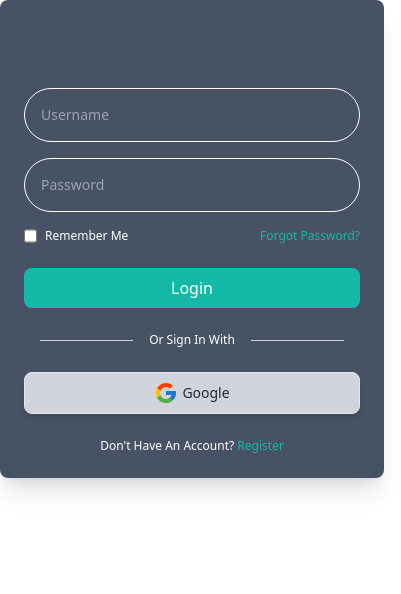
it: LoginForm › LoginForm Invalid Tests › should show 'Password must contain one uppercase letter, one number.' error when login fails due to incorrect password format
This screenshot has width=401, height=594.
Note: Simulate user typing invalid credentials
Type "invalid-email@gmail.com" into the field with placeholder "Username". click: {"x": 192, "y": 115}
box: [33, 97, 351, 133]
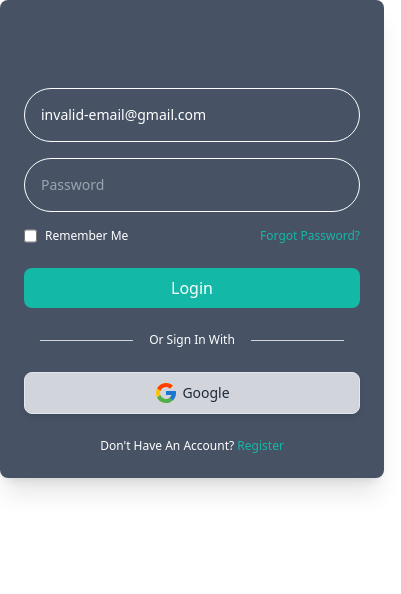
Type "wrongpassword" into the password field with placeholder "Password". click: {"x": 192, "y": 185}
box: [33, 167, 351, 203]
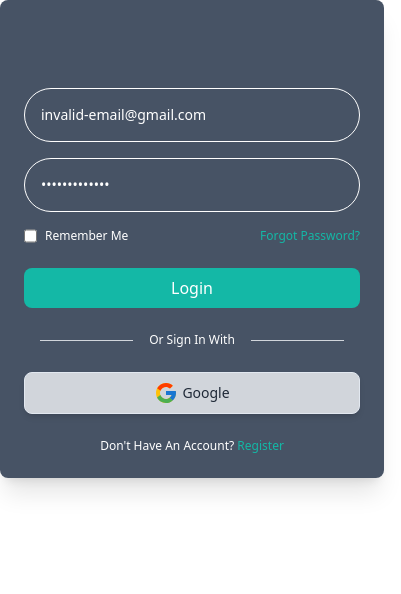
Note: Simulate form submission
Click the button "Login". click: {"x": 192, "y": 288}
box: [24, 268, 360, 308]
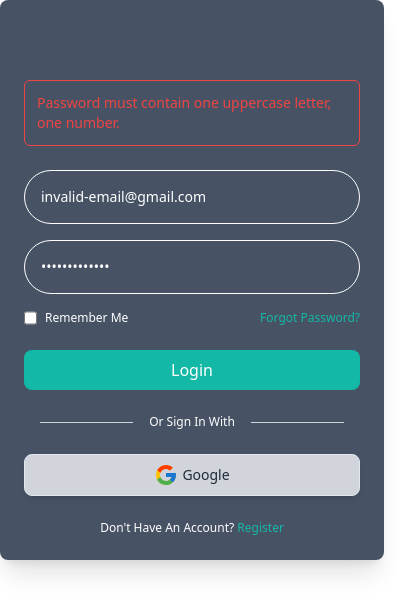
Check: the text "Password must contain one uppercase letter, one number." is shown, box [37, 93, 347, 133]
